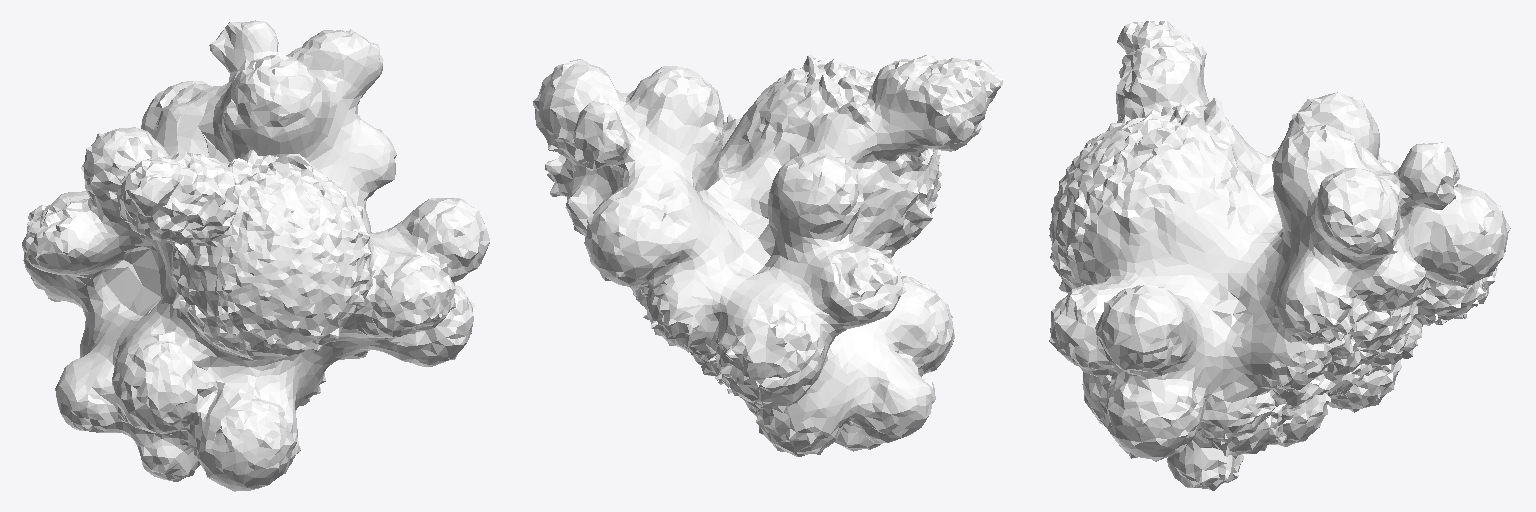
robot.urdf — a_marbles:
<robot name="a_marbles">
    <link name="base_link">
        <visual>
            <origin xyz="-0.0 -0.0 -0.0" rpy="0.0 0.0 0.0" />
            <geometry>
                <mesh filename="a_marbles/textured.obj" scale="1 1 1" />
            </geometry>
            <material name="texture">
                <color rgba="1.0 1.0 1.0 1.0" />
            </material>
        </visual>
        <collision>
            <origin xyz="-0.0 -0.0 -0.0" rpy="0.0 0.0 0.0" />
            <geometry>
                <mesh filename="a_marbles/textured_coacd_0.stl" scale="1 1 1" />
            </geometry>
        </collision>
        <collision>
            <origin xyz="-0.0 -0.0 -0.0" rpy="0.0 0.0 0.0" />
            <geometry>
                <mesh filename="a_marbles/textured_coacd_1.stl" scale="1 1 1" />
            </geometry>
        </collision>
        <collision>
            <origin xyz="-0.0 -0.0 -0.0" rpy="0.0 0.0 0.0" />
            <geometry>
                <mesh filename="a_marbles/textured_coacd_2.stl" scale="1 1 1" />
            </geometry>
        </collision>
        <collision>
            <origin xyz="-0.0 -0.0 -0.0" rpy="0.0 0.0 0.0" />
            <geometry>
                <mesh filename="a_marbles/textured_coacd_3.stl" scale="1 1 1" />
            </geometry>
        </collision>
        <collision>
            <origin xyz="-0.0 -0.0 -0.0" rpy="0.0 0.0 0.0" />
            <geometry>
                <mesh filename="a_marbles/textured_coacd_4.stl" scale="1 1 1" />
            </geometry>
        </collision>
        <inertial>
            <mass value="0.001" />
            <inertia ixx="1e-3" ixy="0.0" ixz="0.0" iyy="1e-3" iyz="0.0" izz="1e-3" />
        </inertial>
    </link>
</robot>

--- Facts derived from the render (not from the file) ---
Views: 3 orthographic renders of the robot side by side, from view 1: azimuth 30°, elevation 25°; view 2: azimuth 150°, elevation 25°; view 3: azimuth 270°, elevation 25°.
Model a_marbles with 1 links and 0 joints (none), rooted at base_link, posed all joints at 0.
Links seen in each view (by area): view 1: base_link; view 2: base_link; view 3: base_link.
Link boxes in pixels (x1,y1,x2,y2): base_link: (22,20,489,491); base_link: (533,54,1002,456); base_link: (1049,21,1510,490).
Bounding box of the posed robot: 0.0724 × 0.0747 × 0.0709 m (x, y, z).
Meshes: 1 distinct files referenced, 1 mesh visuals loaded (1 OBJ).